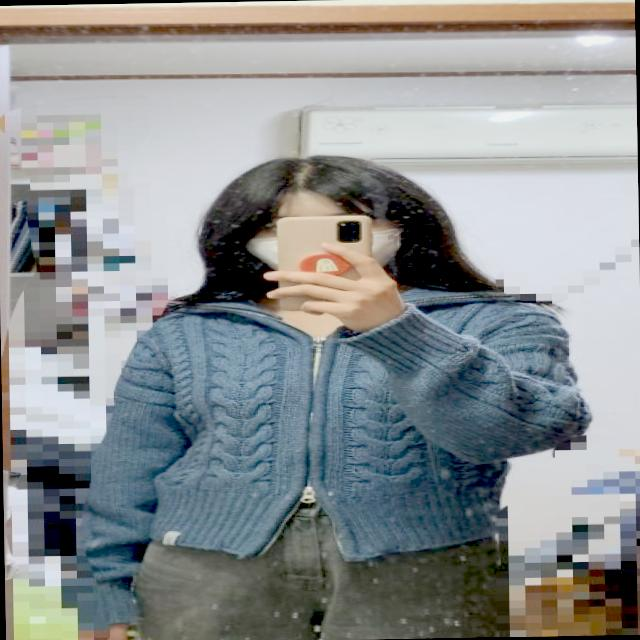cardigan: (73, 282, 588, 628)
denimpants: (131, 479, 512, 640)
